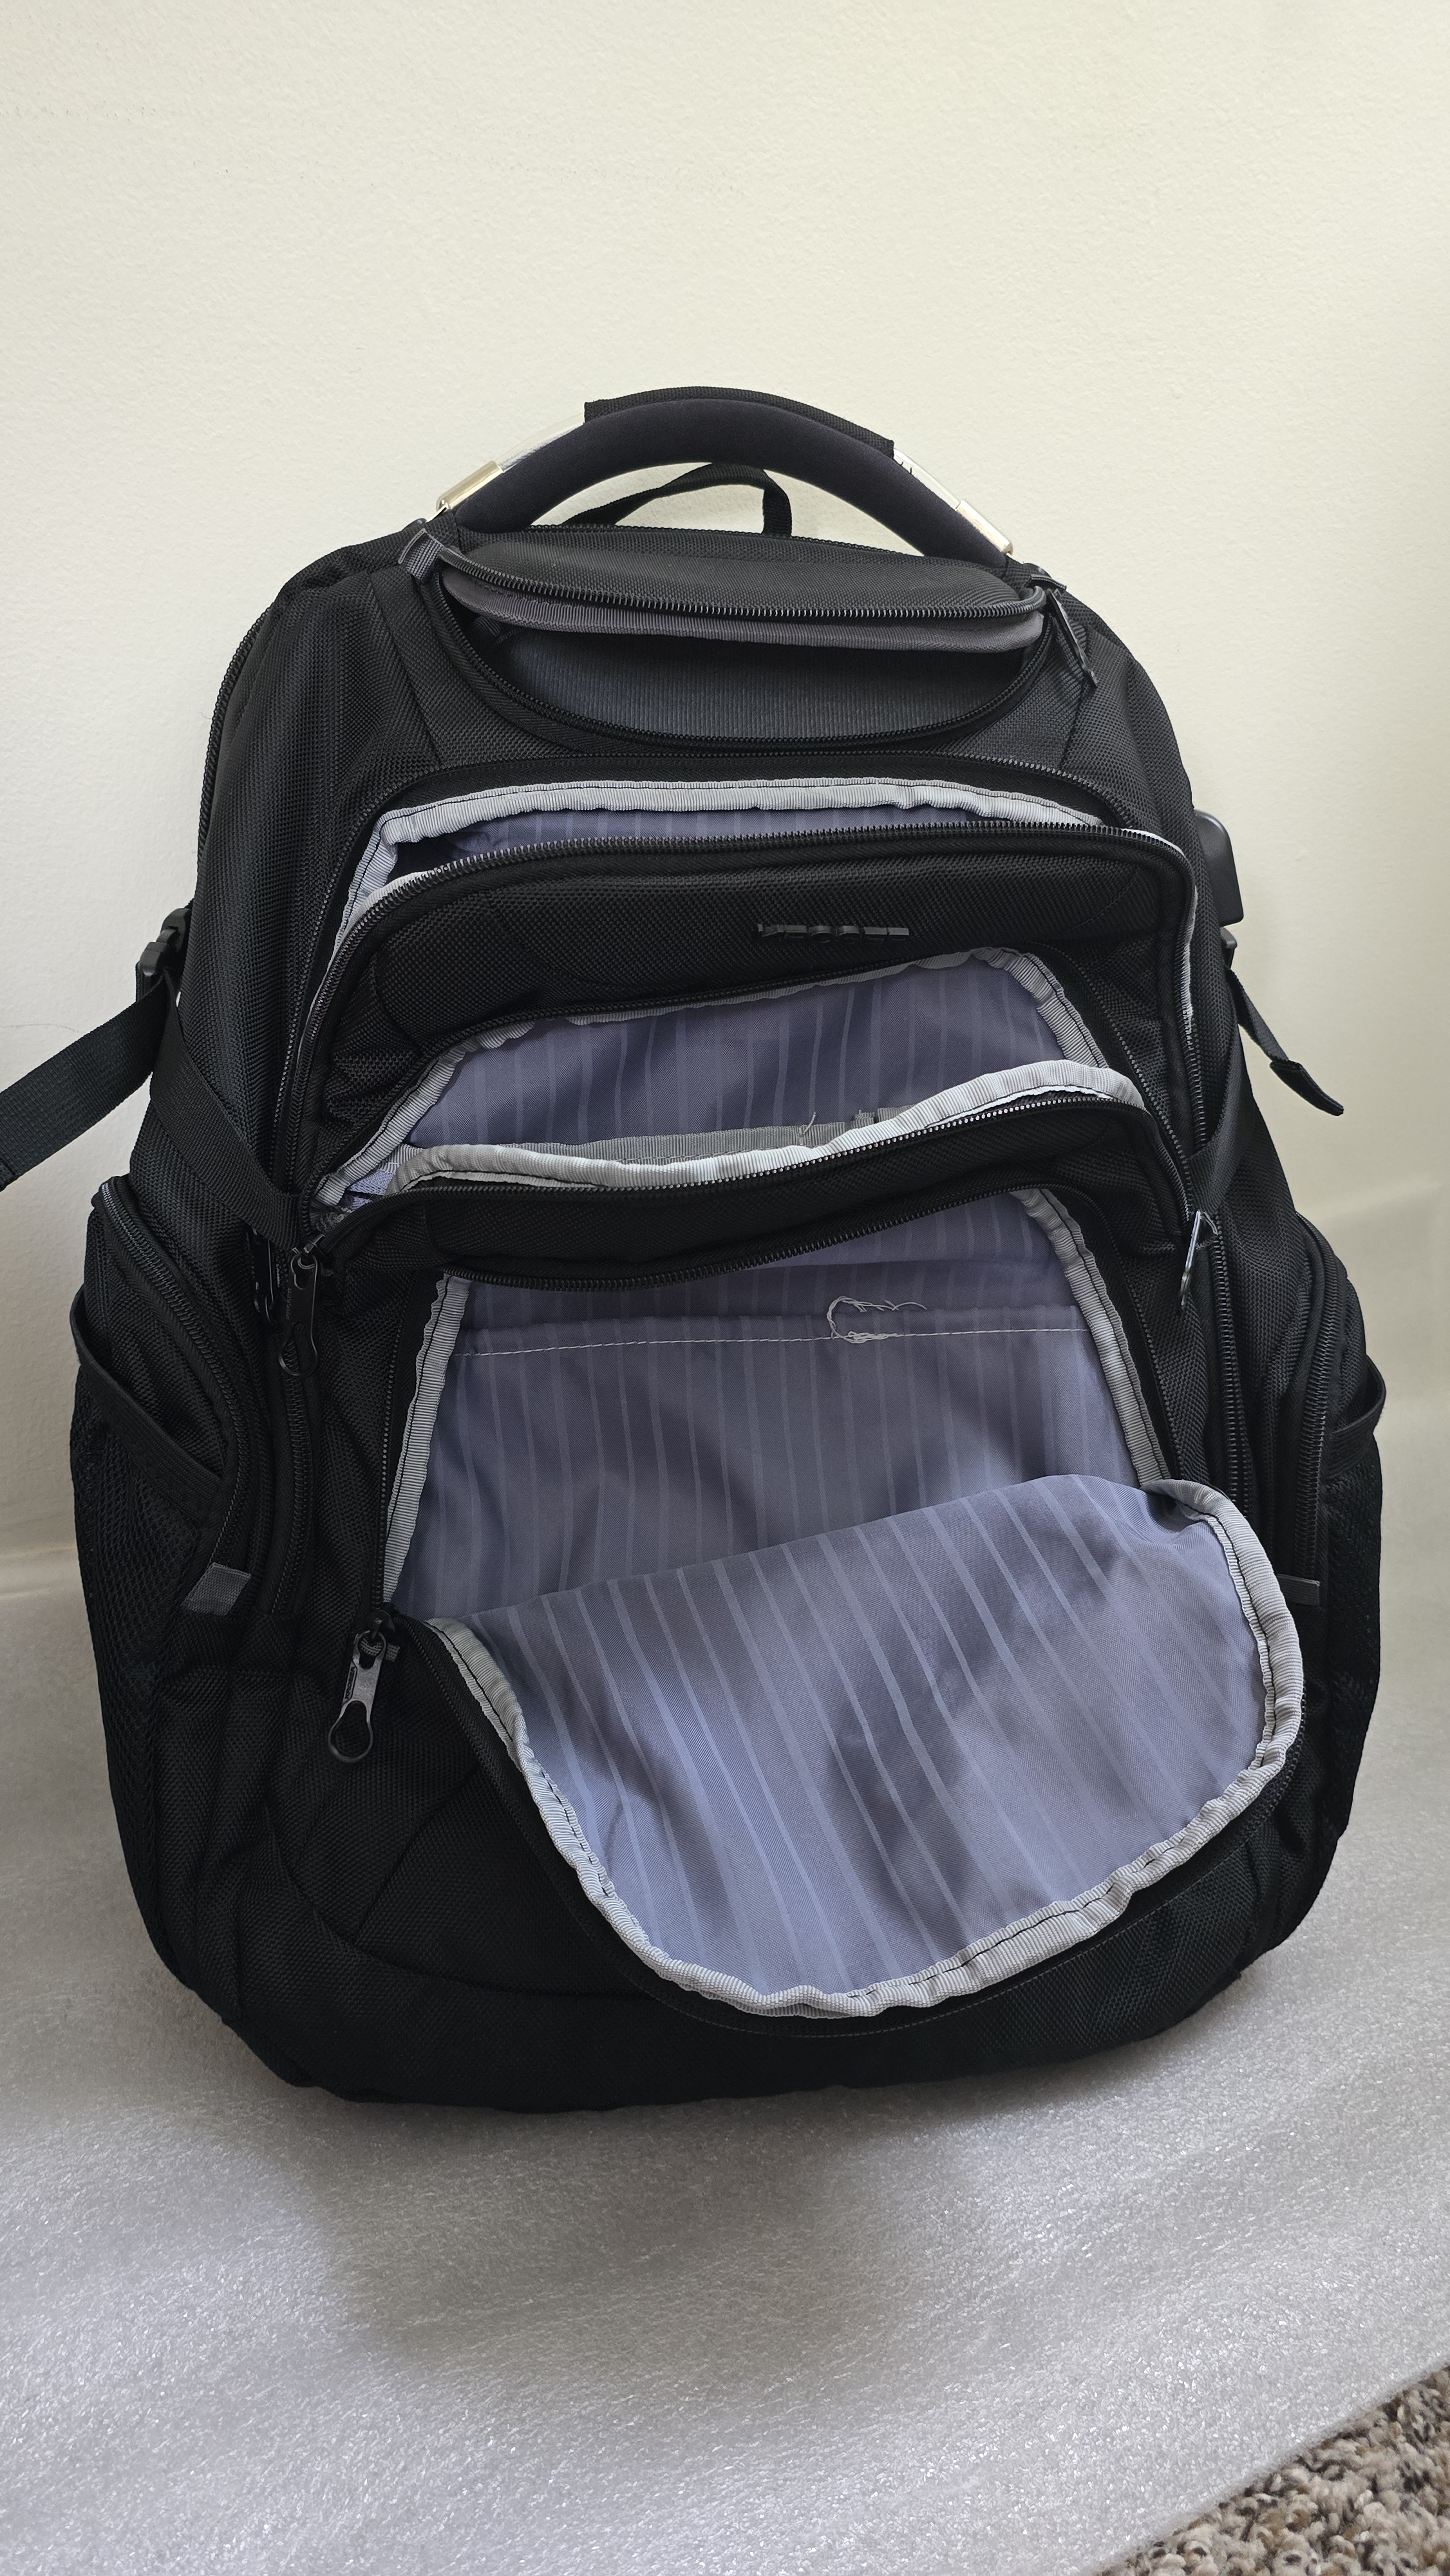bag: (42, 313, 1450, 2166)
